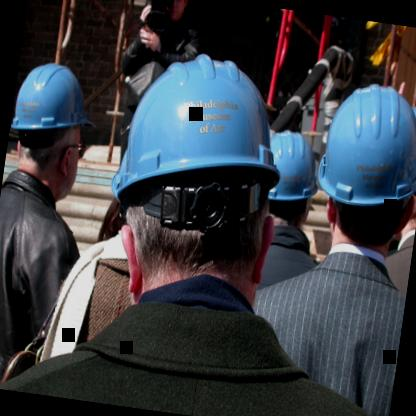helmet: (98, 38, 297, 310), (309, 76, 416, 249), (0, 56, 102, 202), (257, 128, 322, 224)
